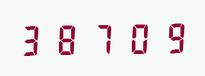eight: (52, 20, 85, 56)
nine: (154, 19, 187, 54)
seven: (86, 20, 119, 55)
three: (18, 21, 51, 56)
zero: (120, 19, 153, 55)
